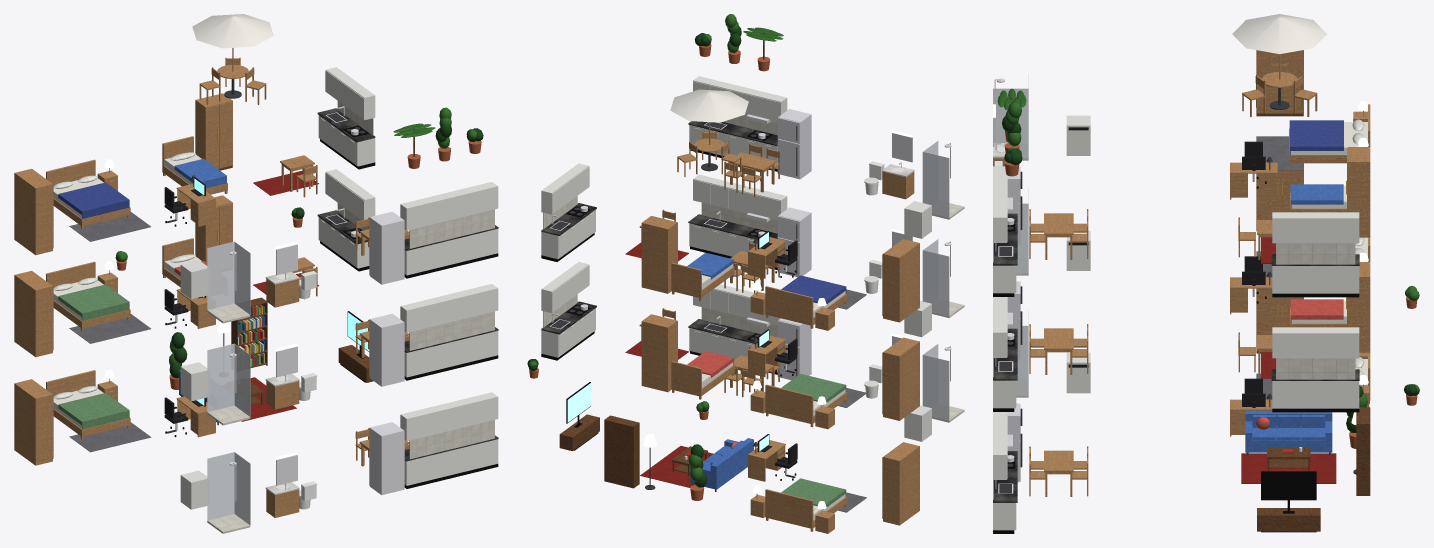
File: i_container_flats.gltf
The picture shows the model from 3 angles, left to right: view 1: azimuth 30°, elevation 25°; view 2: azimuth 150°, elevation 25°; view 3: azimuth 270°, elevation 25°; orthographic projection. The views are drawn at different scales.
Visible parts, largest first — view 1: I_container_flats; view 2: I_container_flats; view 3: I_container_flats.
Boxes of the visible parts, x1,y1,x2,y2 form: I_container_flats: (14, 14, 498, 533); I_container_flats: (527, 14, 964, 533); I_container_flats: (993, 14, 1419, 533).
Size of the model in its own units: 11.38 by 12.25 by 10.77.
36 materials, 14 textured.
